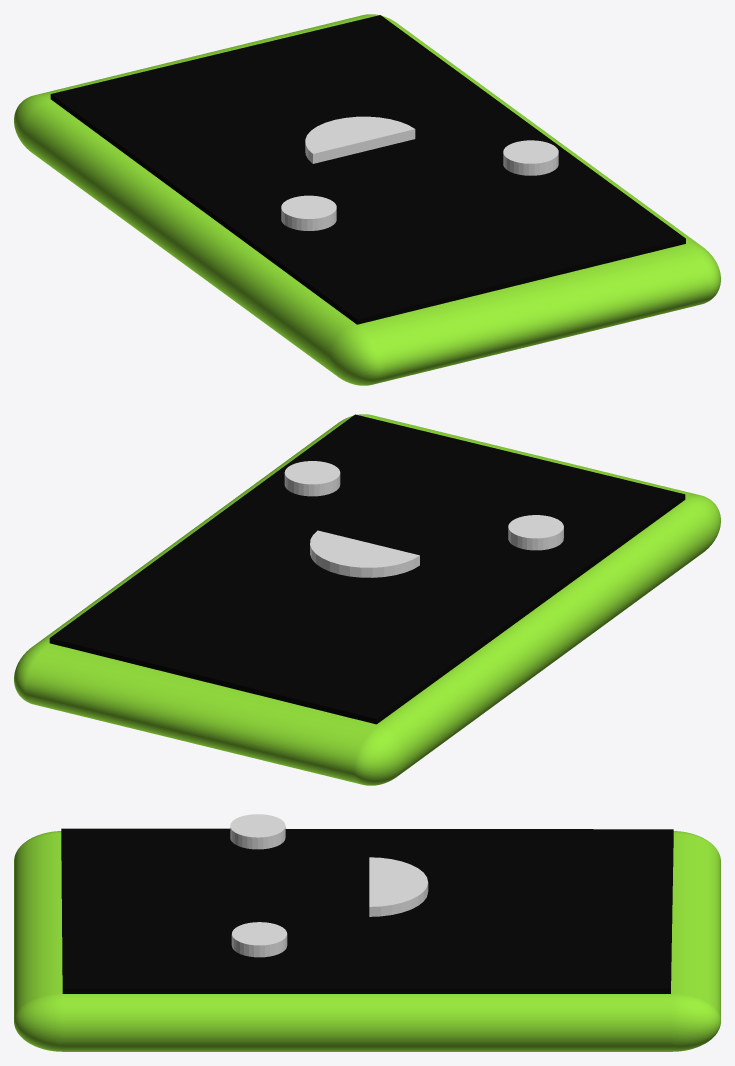
The model's file is gPhone.fbx.
3 renders of one model, top to bottom at view 1: azimuth 30°, elevation 25°; view 2: azimuth 150°, elevation 25°; view 3: azimuth 270°, elevation 25°, orthographic.
Visible parts, largest first — view 1: gScreen, gPhone, gFace; view 2: gScreen, gPhone, gFace; view 3: gScreen, gPhone, gFace.
Part boxes in pixels (x1=…): gScreen: x1=50, y1=15, x2=685, y2=324; gPhone: x1=14, y1=14, x2=720, y2=385; gFace: x1=281, y1=116, x2=558, y2=230; gScreen: x1=49, y1=414, x2=685, y2=724; gPhone: x1=14, y1=414, x2=720, y2=785; gFace: x1=284, y1=461, x2=563, y2=577; gScreen: x1=61, y1=828, x2=673, y2=993; gPhone: x1=14, y1=831, x2=720, y2=1051; gFace: x1=230, y1=814, x2=428, y2=957.
Bounding box in the file's own units: 99.37 × 23.83 × 160.
